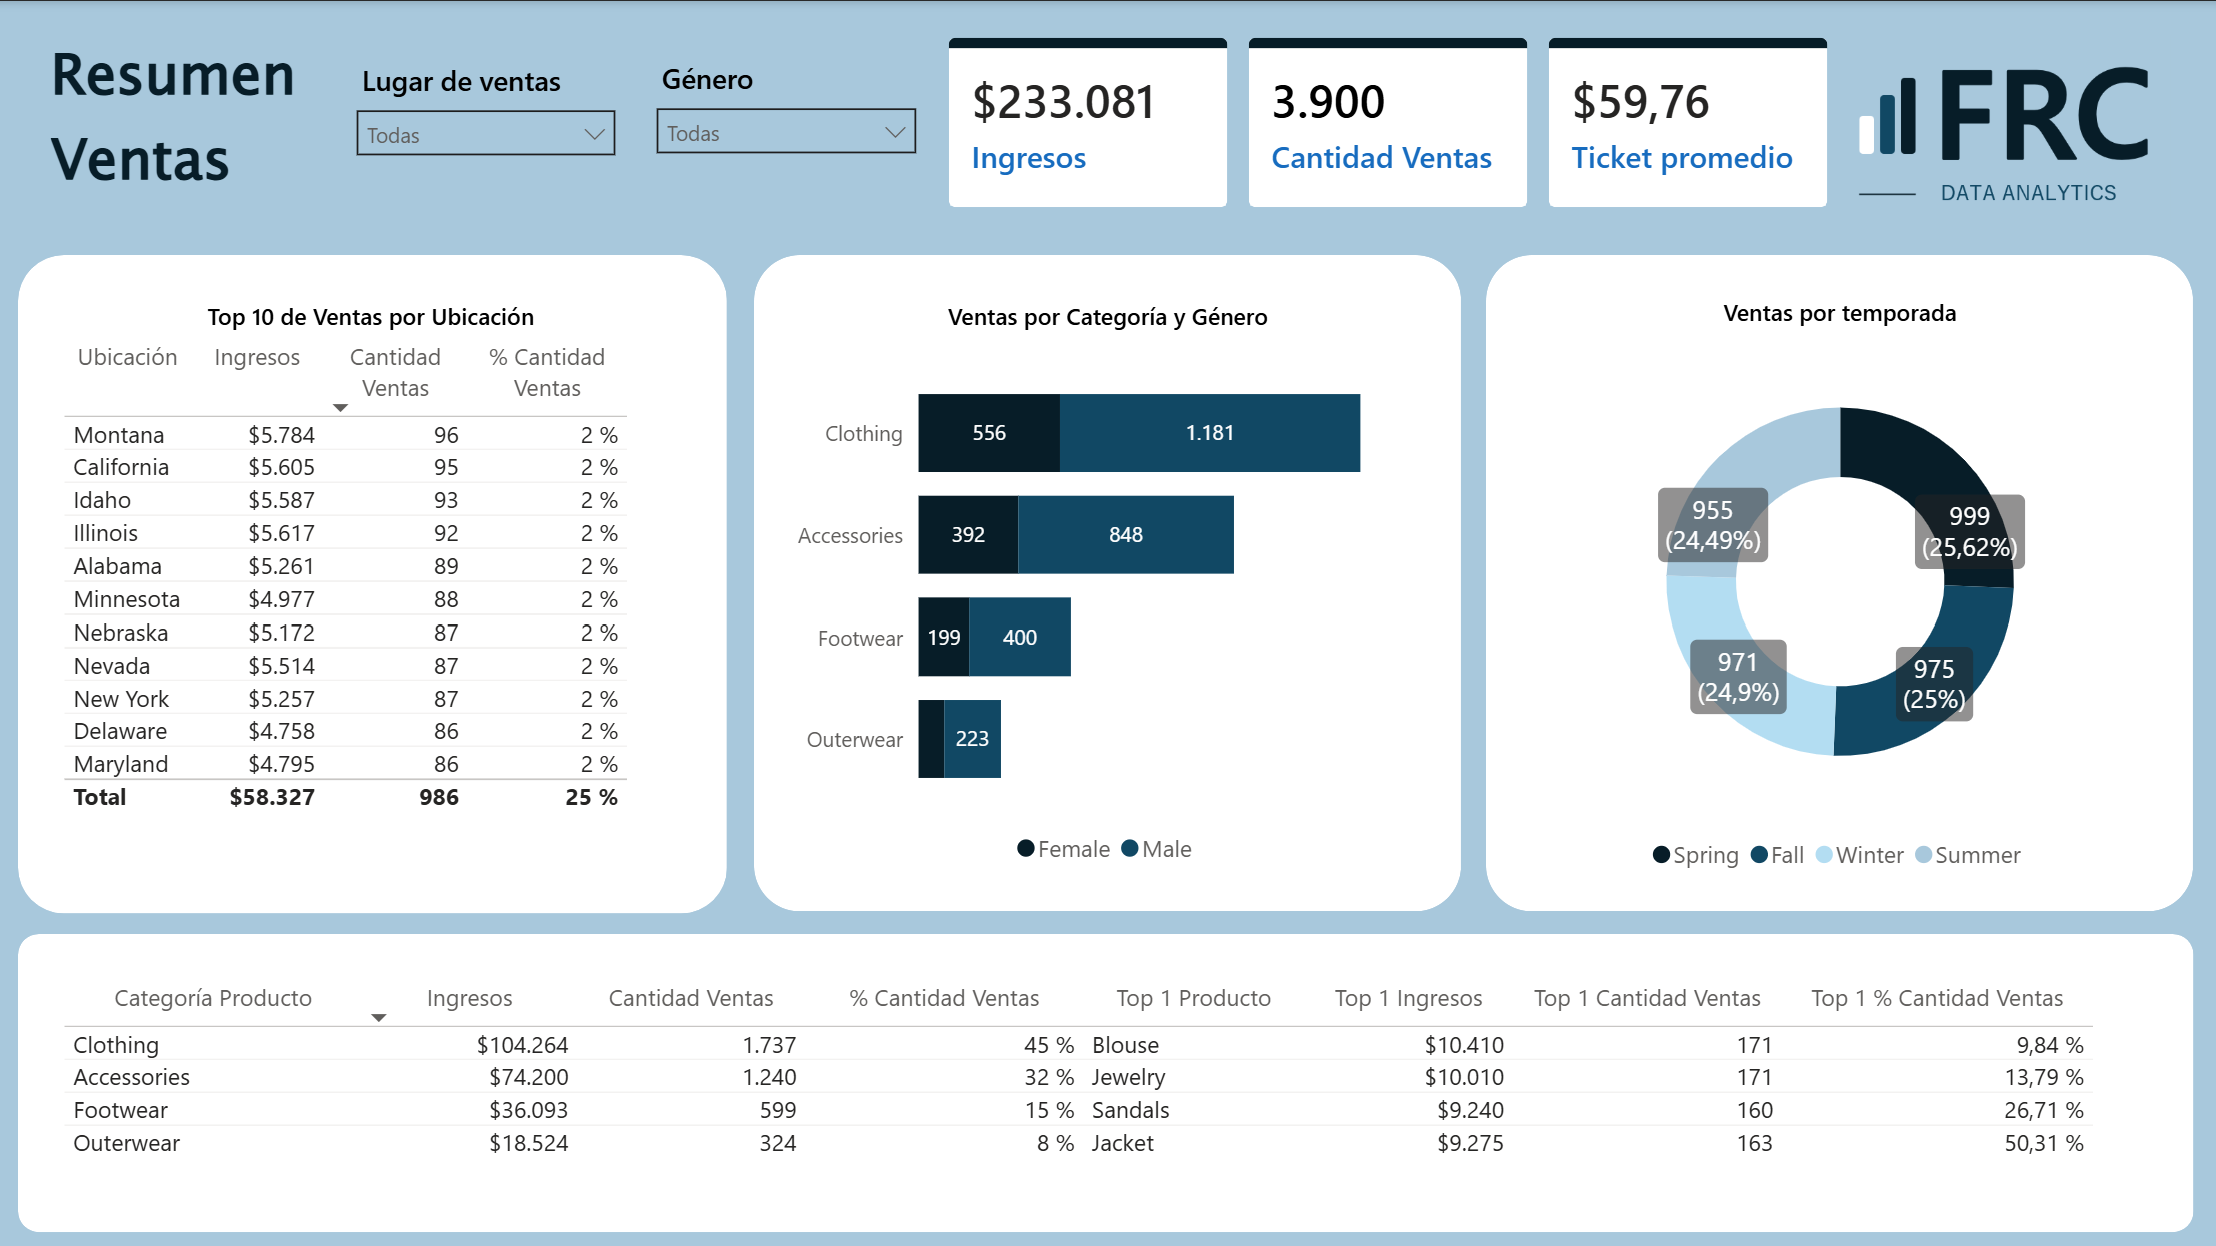

What the dashboard file says about the page in this screenshot:
{"tool":"powerbi","page":{"name":"Ventas","canvas":[1280,720],"ordinal":0},"visuals":[{"type":"shape","box":[10,538.2,1257.2,172.3],"z":0},{"type":"shape","box":[10.5,147.1,409.7,380],"z":1000},{"type":"shape","box":[858.6,146.7,408.6,378.7],"z":2000},{"type":"cardVisual","fields":{"Data":["Dax Medidas.Recuento Compras"]},"box":[709.3,9.5,185.9,122.8],"z":3000},{"type":"slicer","title":"Locación","fields":{"Values":["dim_location.location_name"]},"box":[201.3,34.4,159.5,78.5],"z":4000},{"type":"tableEx","title":"Top 10 de Ventas por Ubicación","fields":{"Values":["dim_location.location_name","Sum(fact_transactions.purchase_amount_usd)","CountNonNull(fact_transactions.transaction_id)","Dax Medidas.Porcentaje_sobre_total_ventas"]},"box":[24.2,160.9,380.2,327.5],"z":5000},{"type":"tableEx","fields":{"Values":["dim_category.category_name","Dax Medidas.Monto total ventas","Dax Medidas.Cantidad Ventas","Dax Medidas.Porcentaje_sobre_total_ventas","Dax Medidas.TOP_1","Dax Medidas.TOP_1_MONTO_X_CATEGORIA","Dax Medidas.TOP_1_VENTAS_X_CATEGORIA","Dax Medidas.TOP_1_PORCENTAJE_SOBRE_TOTAL_cATEGORIA"]},"box":[24.2,553.6,1229.8,148.6],"z":6000},{"type":"donutChart","title":"Ventas por temporada","fields":{"Category":["dim_season.season_name"],"Y":["Dax Medidas.Cantidad Ventas"]},"box":[872.8,158,381.6,360.2],"z":7000},{"type":"cardVisual","fields":{"Data":["Dax Medidas.Monto total ventas"]},"box":[536.4,9.5,185.9,122.8],"z":8000},{"type":"textbox","box":[24.2,14.2,220.7,116.8],"z":9000},{"type":"image","box":[1062,0,192.2,149.5],"z":10000},{"type":"shape","box":[435.7,146.7,408.6,378.7],"z":11000},{"type":"barChart","title":"Ventas por Categoría y Género","fields":{"Category":["dim_category.category_name"],"Series":["dim_gender.gender_name"],"Y":["Dax Medidas.Cantidad Ventas"]},"box":[444.2,160.9,393,354.5],"z":12000},{"type":"cardVisual","fields":{"Data":["Dax Medidas.Ticket promedio"]},"box":[882.9,9.2,185.3,122.7],"z":13000},{"type":"slicer","title":"Locación","fields":{"Values":["dim_gender.gender_name"]},"box":[374.9,33.9,160,78],"z":14000}]}

Visuals, with their boxes in screenshot pixels (x1, y1, x2, y2), scaled from the page's 1280x720 canvas onto the 2216x1246 screenshot:
shape: (17,931,2194,1230)
shape: (18,255,727,912)
shape: (1486,254,2194,909)
cardVisual - Dax Medidas.Recuento Compras: (1228,16,1550,229)
"Locación" slicer: (349,60,625,195)
"Top 10 de Ventas por Ubicación" tableEx: (42,278,700,845)
tableEx - dim_category.category_name x Dax Medidas.Monto total ventas: (42,958,2171,1215)
"Ventas por temporada" donutChart: (1511,273,2172,897)
cardVisual - Dax Medidas.Monto total ventas: (929,16,1250,229)
textbox: (42,25,424,227)
image: (1839,0,2171,259)
shape: (754,254,1462,909)
"Ventas por Categoría y Género" barChart: (769,278,1449,892)
cardVisual - Dax Medidas.Ticket promedio: (1529,16,1849,228)
"Locación" slicer: (649,59,926,194)
